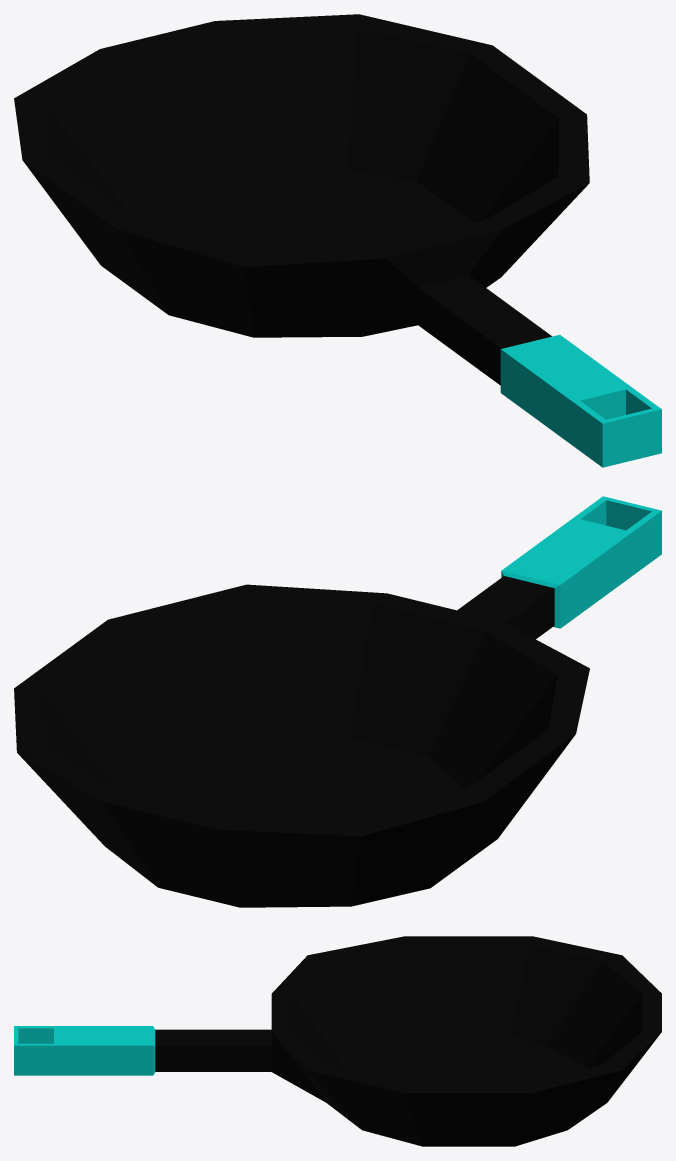
The model's file is sarten.fbx.
3 views of the same model, one above another, from view 1: azimuth 30°, elevation 25°; view 2: azimuth 150°, elevation 25°; view 3: azimuth 270°, elevation 25° (orthographic). The views are drawn at different scales.
Visible parts, largest first — view 1: sarten; view 2: sarten; view 3: sarten.
Boxes of the visible parts, x1,y1,x2,y2 form: sarten: (14,14,661,467); sarten: (14,496,661,907); sarten: (14,936,661,1146).
Size of the model in its own units: 132 by 29.88 by 230.
